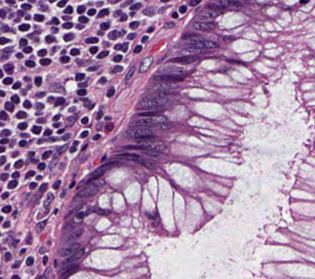nucleus: (73, 178, 103, 200), (182, 34, 218, 49), (137, 92, 168, 109), (124, 141, 165, 151), (131, 115, 166, 126), (63, 248, 84, 263), (125, 127, 153, 138), (152, 82, 176, 93), (60, 243, 79, 256), (65, 228, 82, 242), (158, 65, 184, 74), (139, 56, 153, 72), (61, 264, 78, 277), (153, 75, 184, 82), (170, 55, 197, 63), (44, 193, 53, 211), (125, 66, 134, 80), (36, 220, 46, 232), (158, 121, 172, 129), (66, 115, 76, 125), (138, 111, 157, 116), (108, 30, 118, 39), (97, 50, 108, 58), (49, 157, 56, 169), (57, 145, 66, 154), (63, 33, 73, 41), (39, 183, 47, 193), (85, 37, 98, 43), (106, 88, 114, 97), (55, 97, 64, 105), (42, 151, 51, 159), (40, 58, 50, 65), (112, 65, 122, 72), (45, 35, 54, 42), (70, 48, 79, 55), (77, 88, 86, 95), (134, 45, 141, 53), (89, 46, 97, 53), (38, 49, 46, 56), (113, 55, 121, 62), (76, 73, 84, 80), (34, 77, 41, 85), (105, 123, 113, 130), (32, 126, 40, 133), (80, 130, 88, 137), (62, 133, 70, 140), (53, 180, 60, 188), (76, 211, 84, 218), (60, 56, 69, 62), (69, 145, 76, 152), (38, 162, 45, 169), (127, 33, 135, 39), (35, 103, 43, 109), (96, 111, 102, 119), (122, 42, 127, 51), (78, 82, 87, 87), (99, 77, 106, 83), (81, 117, 88, 123), (44, 129, 51, 135), (29, 182, 36, 188), (36, 92, 44, 97), (60, 189, 65, 197), (141, 36, 147, 42), (87, 66, 96, 70), (114, 44, 121, 49), (93, 134, 100, 139), (36, 118, 44, 122), (43, 256, 47, 264), (52, 46, 57, 52), (48, 96, 53, 102), (53, 115, 59, 120), (69, 181, 74, 187), (53, 123, 59, 127), (57, 129, 63, 133), (37, 139, 43, 143), (69, 107, 74, 111), (36, 175, 41, 179), (39, 248, 44, 252), (73, 141, 77, 145), (98, 31, 102, 34), (50, 138, 55, 140)
